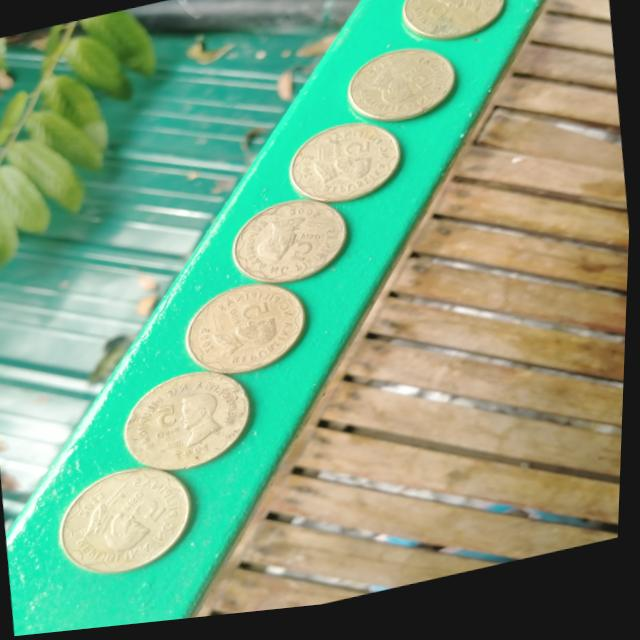5_Old_Front: (133, 378, 236, 471), (77, 483, 181, 572), (242, 198, 346, 286)
